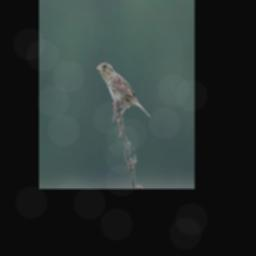Sparrow: (97, 60, 151, 122)
